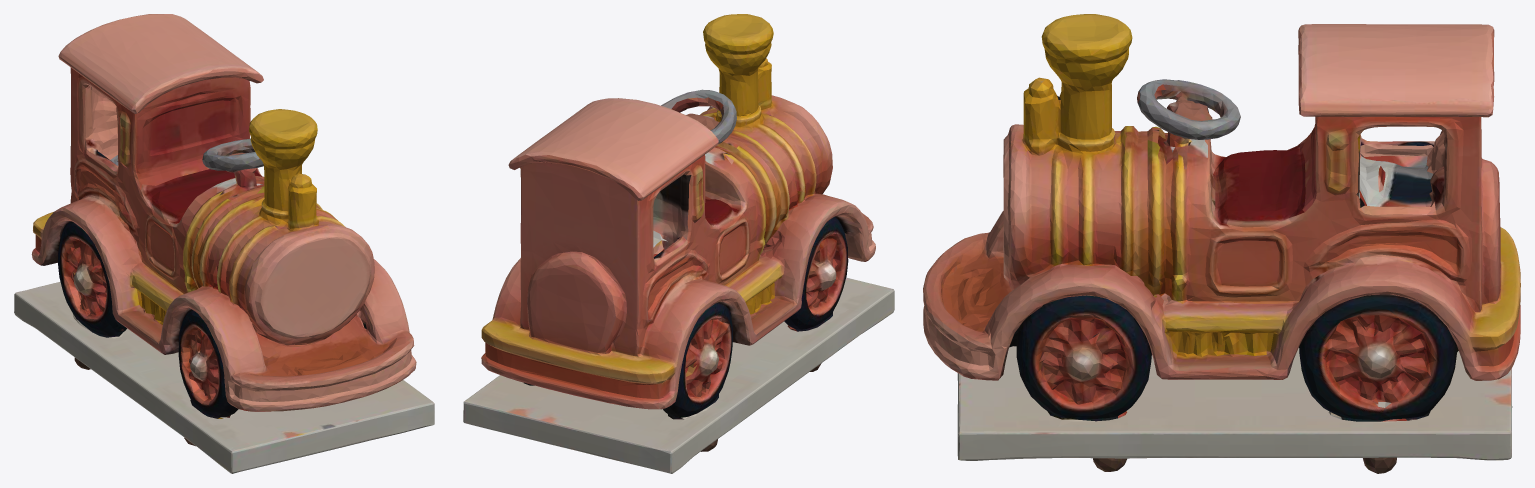
Rendered from ride-train.glb.
3 views of the same model, side by side, from view 1: azimuth 30°, elevation 25°; view 2: azimuth 150°, elevation 25°; view 3: azimuth 270°, elevation 25° (orthographic). The views are drawn at different scales.
Visible parts, largest first — view 1: ride_train; view 2: ride_train; view 3: ride_train.
Part boxes in pixels (x1,y1,x2,y2): ride_train: [14, 14, 434, 473]; ride_train: [463, 14, 894, 473]; ride_train: [923, 14, 1520, 473].
Size of the model in its own units: 0.7002 by 1.02 by 1.4.
Materials: 1 (1 with a texture image).
